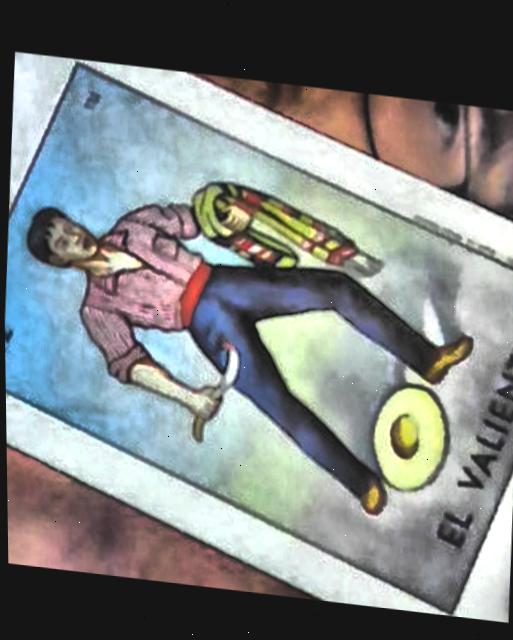El Borracho: (4, 63, 513, 609)
